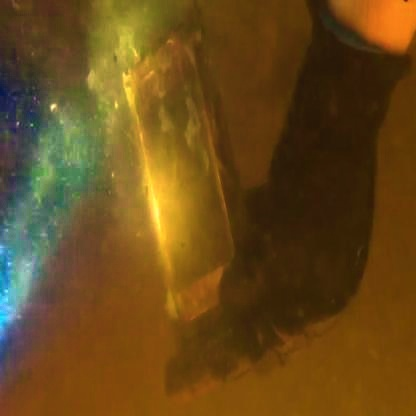cellphone: (129, 35, 238, 321)
